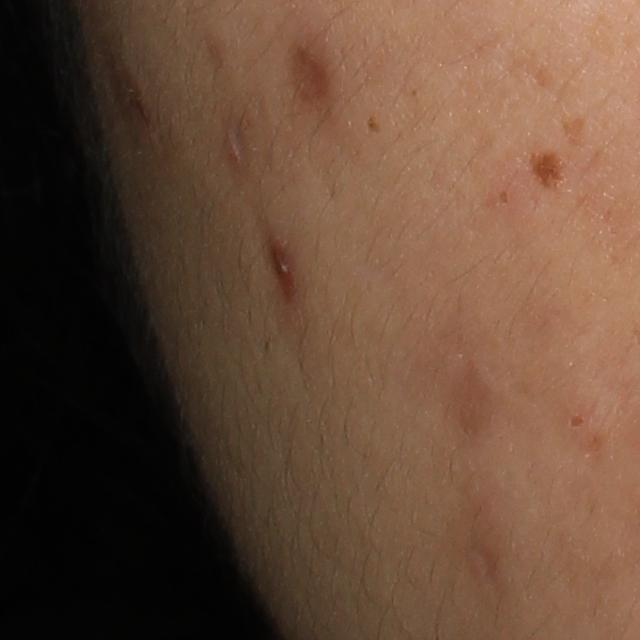melasma: (526, 148, 572, 195)
